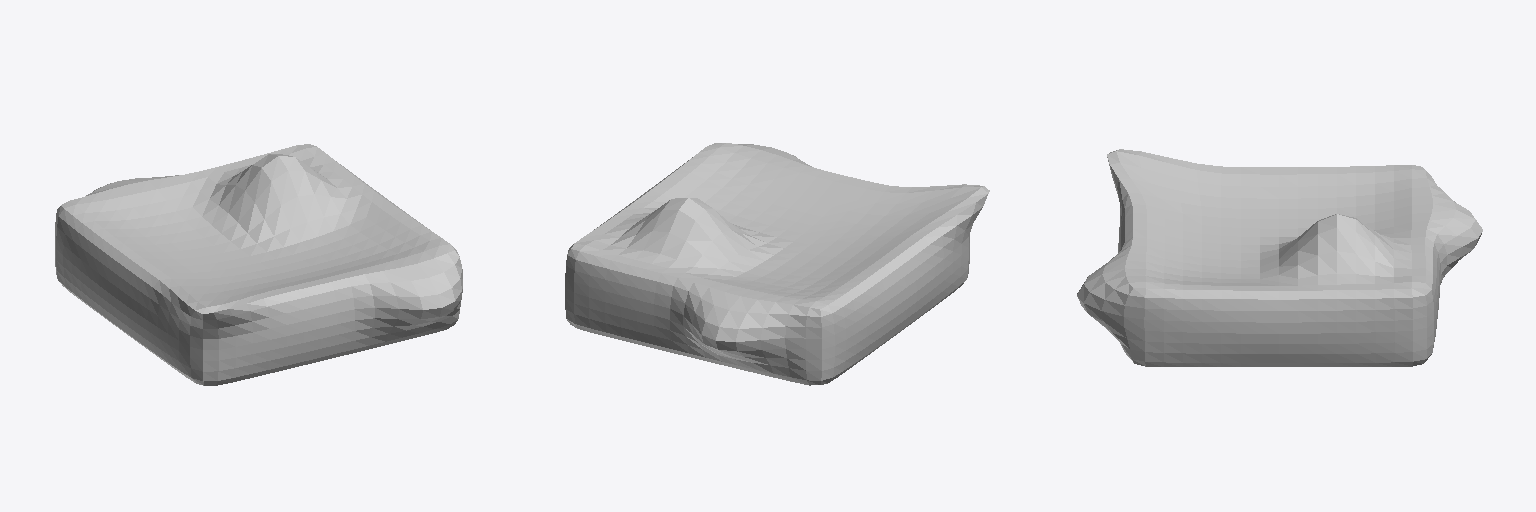
The model's file is coussindéformé.obj.
3 views of the same model, side by side, from view 1: azimuth 30°, elevation 25°; view 2: azimuth 150°, elevation 25°; view 3: azimuth 270°, elevation 25° (orthographic).
Visible parts, largest first — view 1: Cube; view 2: Cube; view 3: Cube.
Boxes of the visible parts, x1,y1,x2,y2 form: Cube: [55, 144, 462, 385]; Cube: [565, 143, 989, 385]; Cube: [1077, 149, 1482, 366].
Size of the model in its own units: 2.11 by 0.9578 by 2.64.